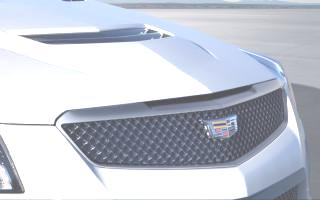cadillac: (199, 112, 249, 141)
